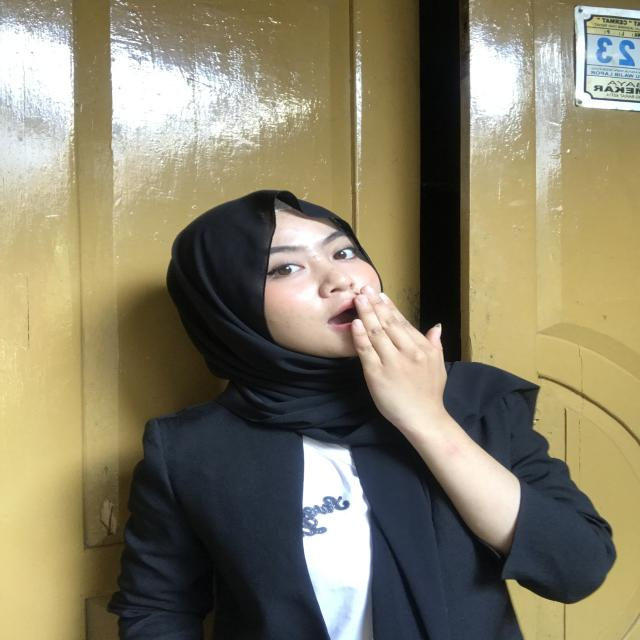ngantuk: (320, 280, 497, 454)
